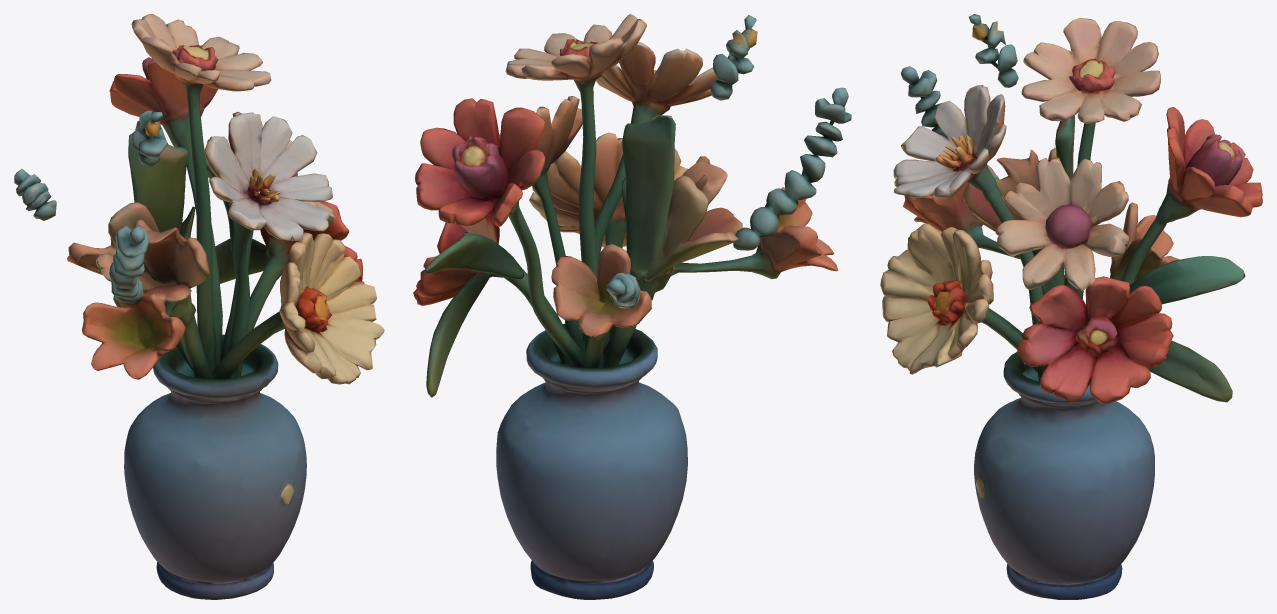
File: vase-with-flowers.glb
3 views of the same model, side by side, from view 1: azimuth 30°, elevation 25°; view 2: azimuth 150°, elevation 25°; view 3: azimuth 270°, elevation 25° (orthographic). The views are drawn at different scales.
Visible parts, largest first — view 1: tripo_node_ec15a90f-d798-4406-9bca-84834e0462d2; view 2: tripo_node_ec15a90f-d798-4406-9bca-84834e0462d2; view 3: tripo_node_ec15a90f-d798-4406-9bca-84834e0462d2.
Boxes of the visible parts, x1,y1,x2,y2 form: tripo_node_ec15a90f-d798-4406-9bca-84834e0462d2: (14, 14, 384, 599); tripo_node_ec15a90f-d798-4406-9bca-84834e0462d2: (413, 14, 851, 599); tripo_node_ec15a90f-d798-4406-9bca-84834e0462d2: (880, 14, 1262, 599).
Bounding box in the file's own units: 0.6174 × 1 × 0.6469.
Materials: 1 (1 with a texture image).
